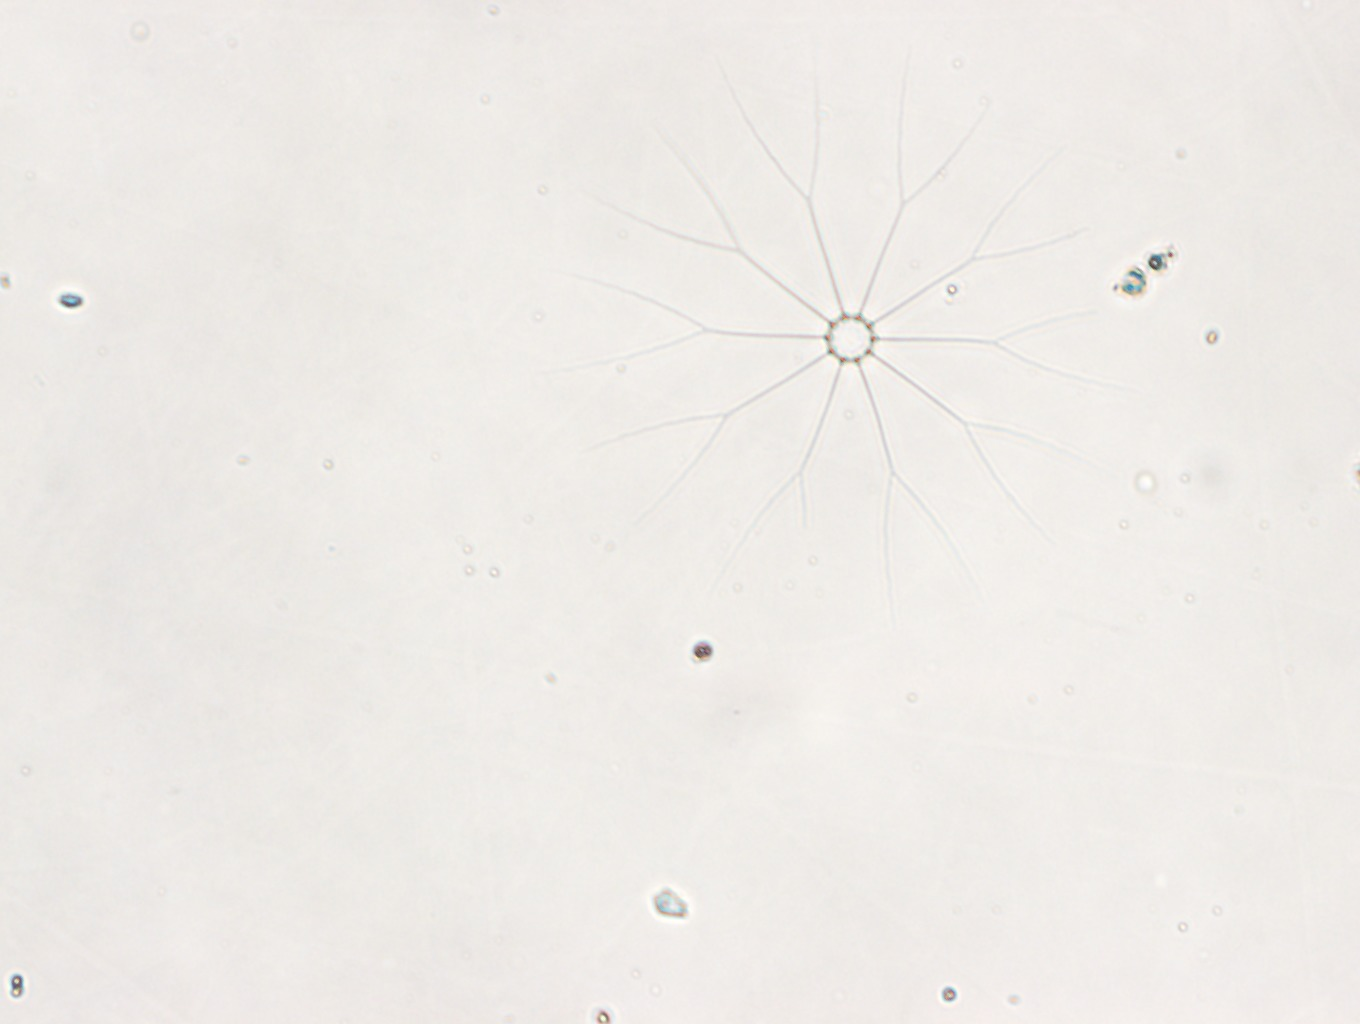bacteriastrum: (571, 47, 1129, 592)
